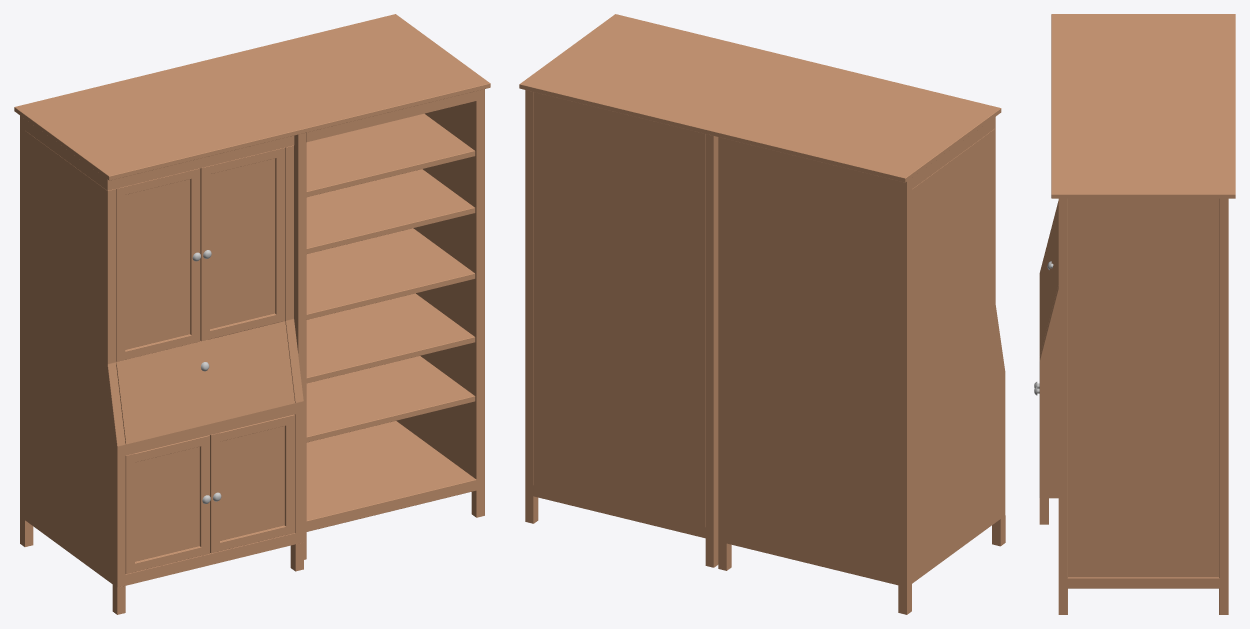
Rendered from IKEA-Secretary_with_add_on_unit_and_bookspace-3D.obj.
The picture shows the model from 3 angles, left to right: view 1: azimuth 30°, elevation 25°; view 2: azimuth 150°, elevation 25°; view 3: azimuth 270°, elevation 25°; orthographic projection. The views are drawn at different scales.
Parts seen in each view (by area): view 1: Rectangle001, Box001, Line002, Rectangle005, Line003, Box002, Box014, Box015, Box005, Rectangle002, Line001, Box006 (+4 smaller); view 2: Box007, Box003, Box001, Line002, Rectangle002, Box006, Box002; view 3: Box005, Box001, Rectangle002, Line001, Box002, Rectangle004, Line003.
Part boxes in pixels (<box>): Rectangle001: <box>306,113,475,442</box>; Box001: <box>14,14,490,180</box>; Line002: <box>25,130,125,587</box>; Rectangle005: <box>116,147,285,361</box>; Line003: <box>116,321,294,444</box>; Box002: <box>303,421,484,532</box>; Box014: <box>125,435,209,573</box>; Box015: <box>210,414,294,553</box>; Box005: <box>396,102,471,475</box>; Rectangle002: <box>294,89,484,559</box>; Line001: <box>217,145,303,543</box>; Box006: <box>20,115,294,190</box>; Box007: <box>718,147,911,587</box>; Box003: <box>533,92,705,537</box>; Box001: <box>519,14,1001,182</box>; Line002: <box>912,128,1005,583</box>; Rectangle002: <box>525,90,718,567</box>; Box006: <box>718,117,995,192</box>; Box002: <box>525,483,718,539</box>; Box005: <box>1068,210,1218,577</box>; Box001: <box>1051,14,1235,198</box>; Rectangle002: <box>1058,198,1228,614</box>; Line001: <box>1039,285,1058,498</box>; Box002: <box>1058,577,1228,588</box>; Rectangle004: <box>1068,198,1218,210</box>; Line003: <box>1039,205,1058,356</box>.
Size of the model in its own units: 1810 by 1970 by 852.
